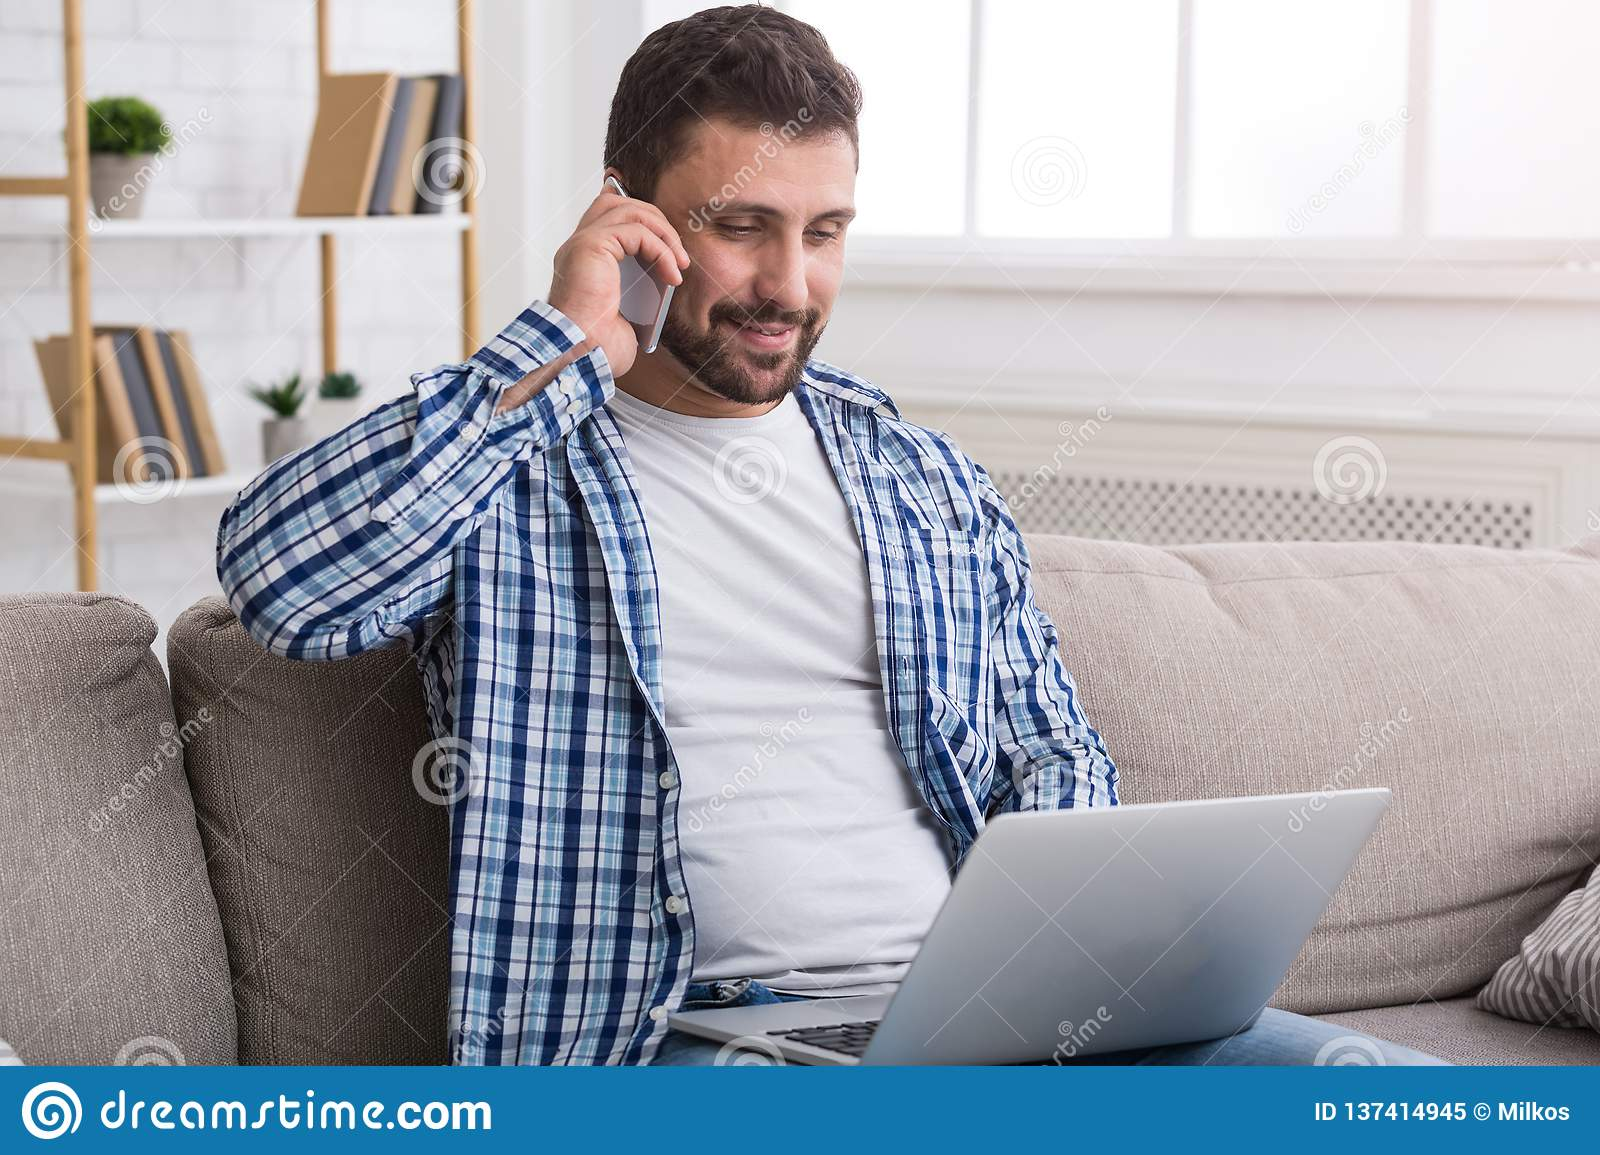phone: (581, 175, 680, 365)
talk: (548, 155, 857, 409)
